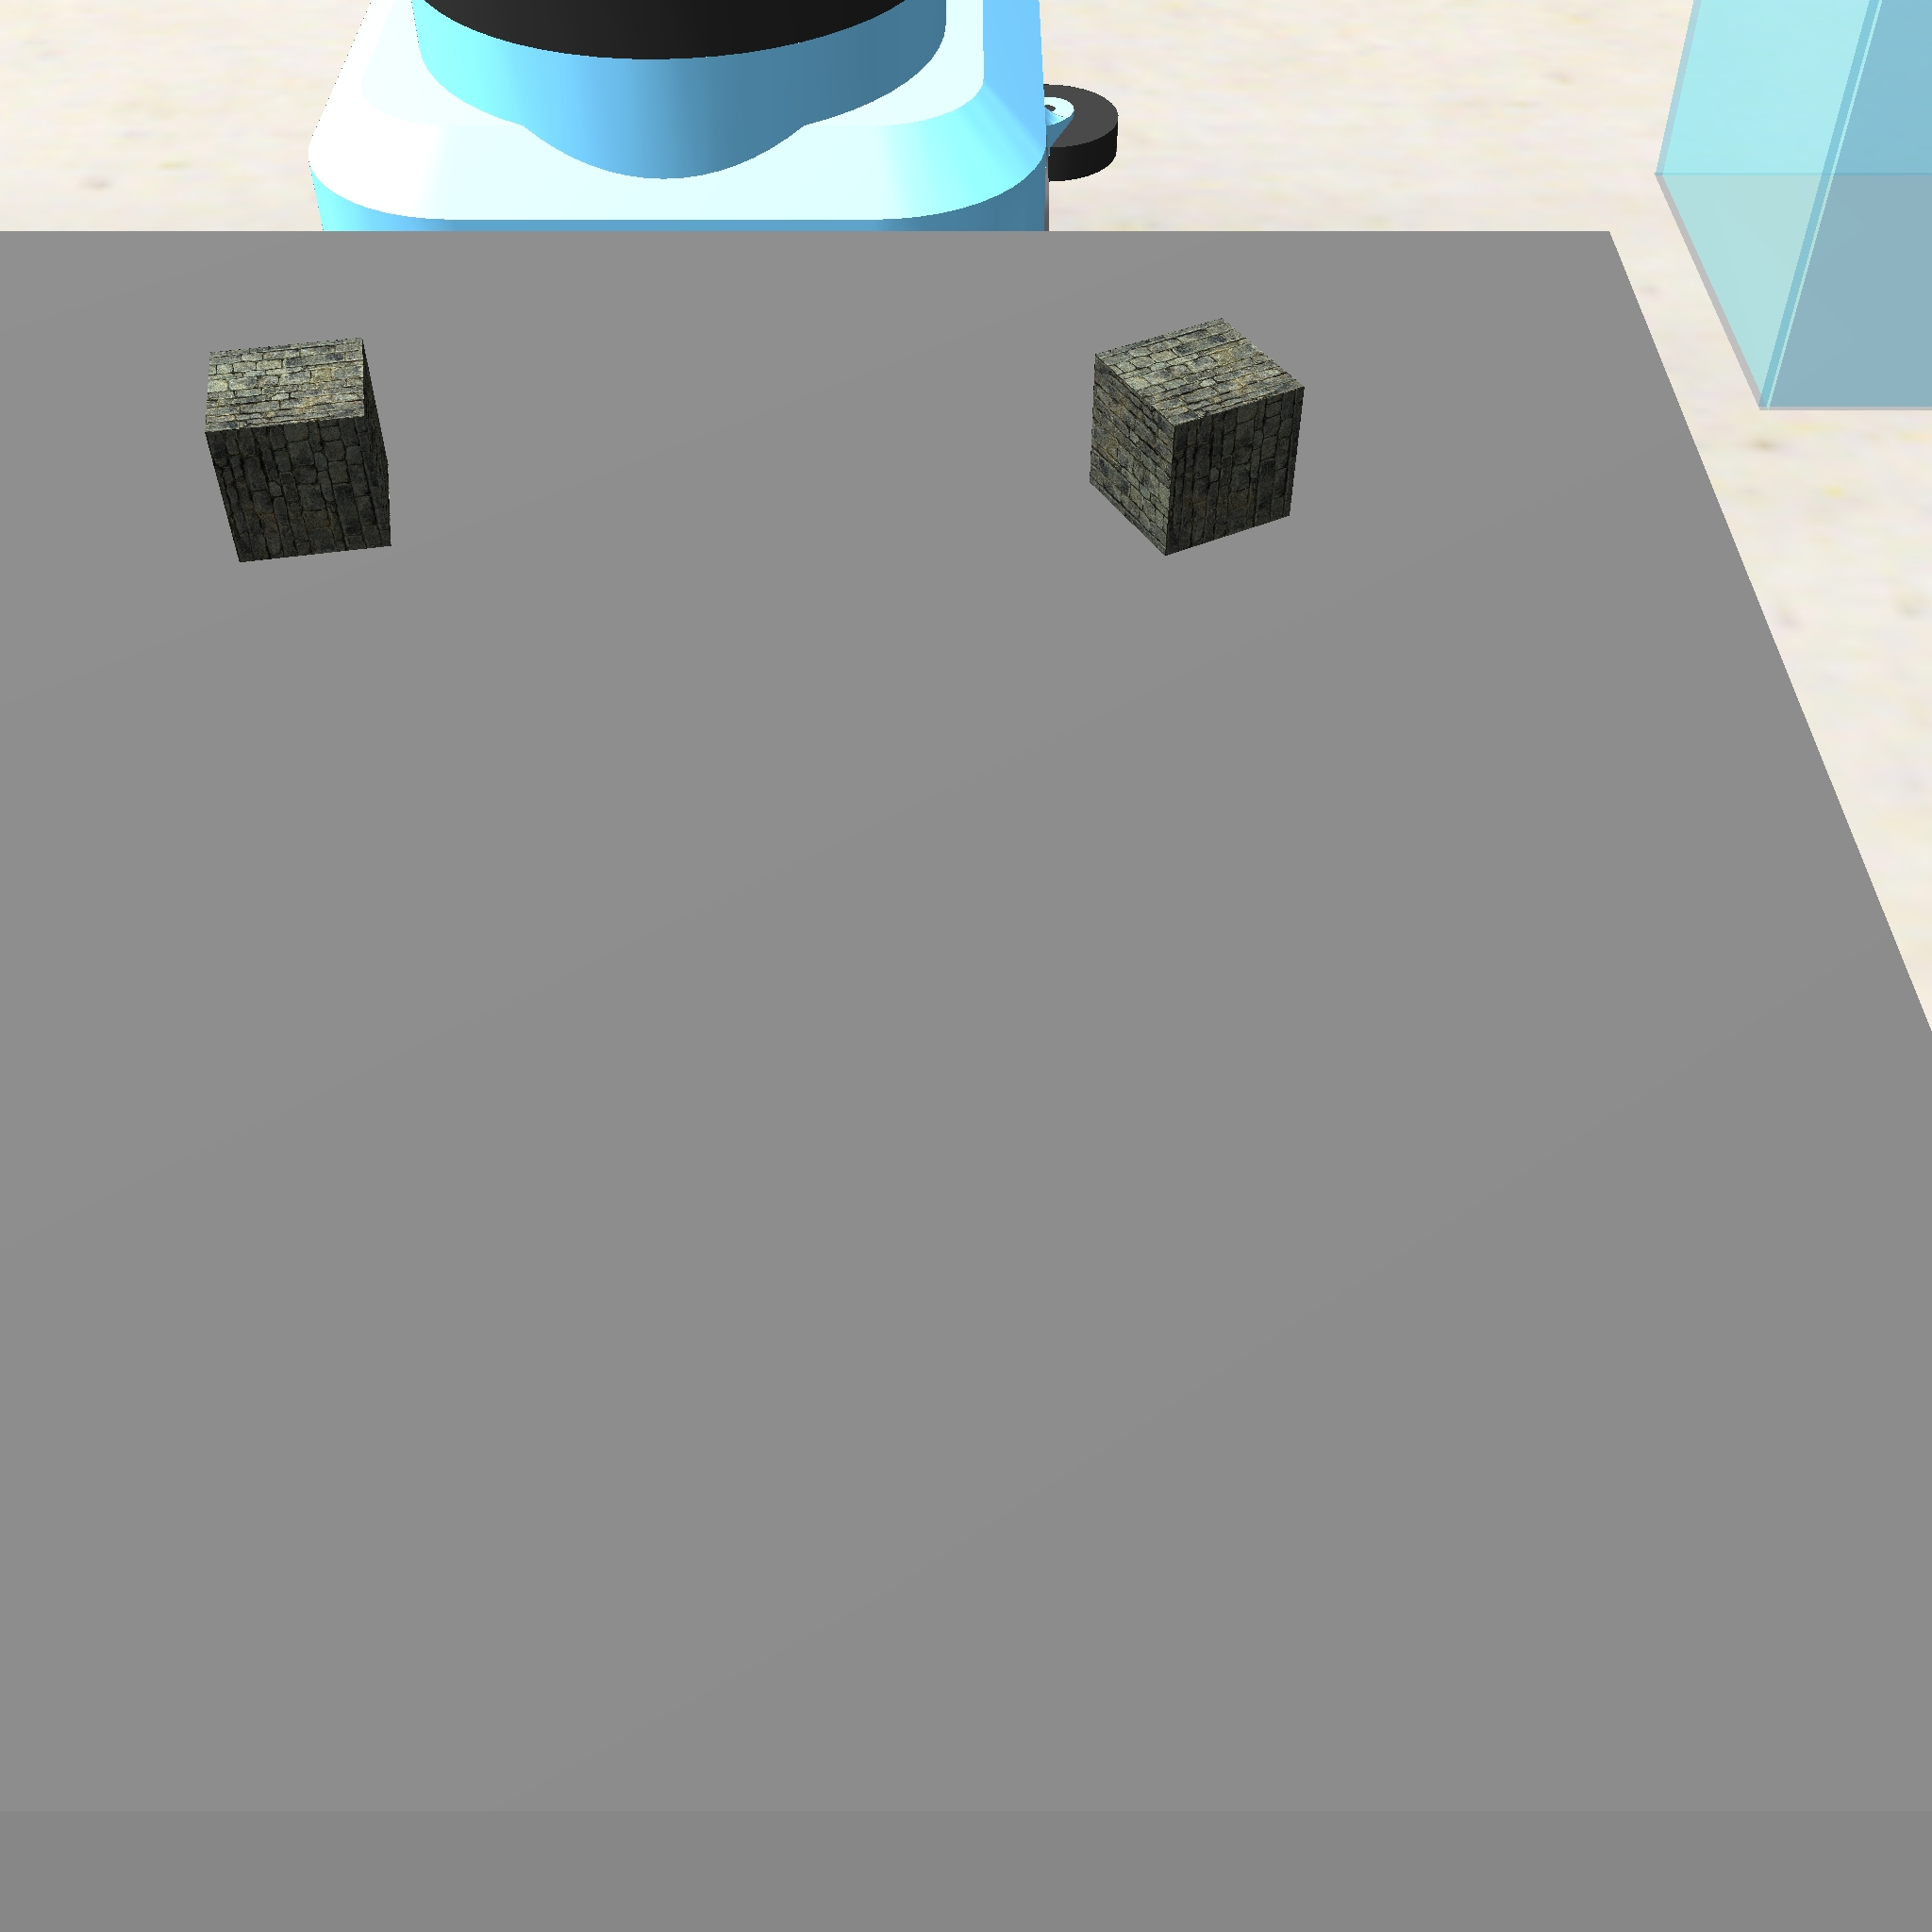cube: (1081, 308, 1309, 561), (196, 329, 405, 566)
